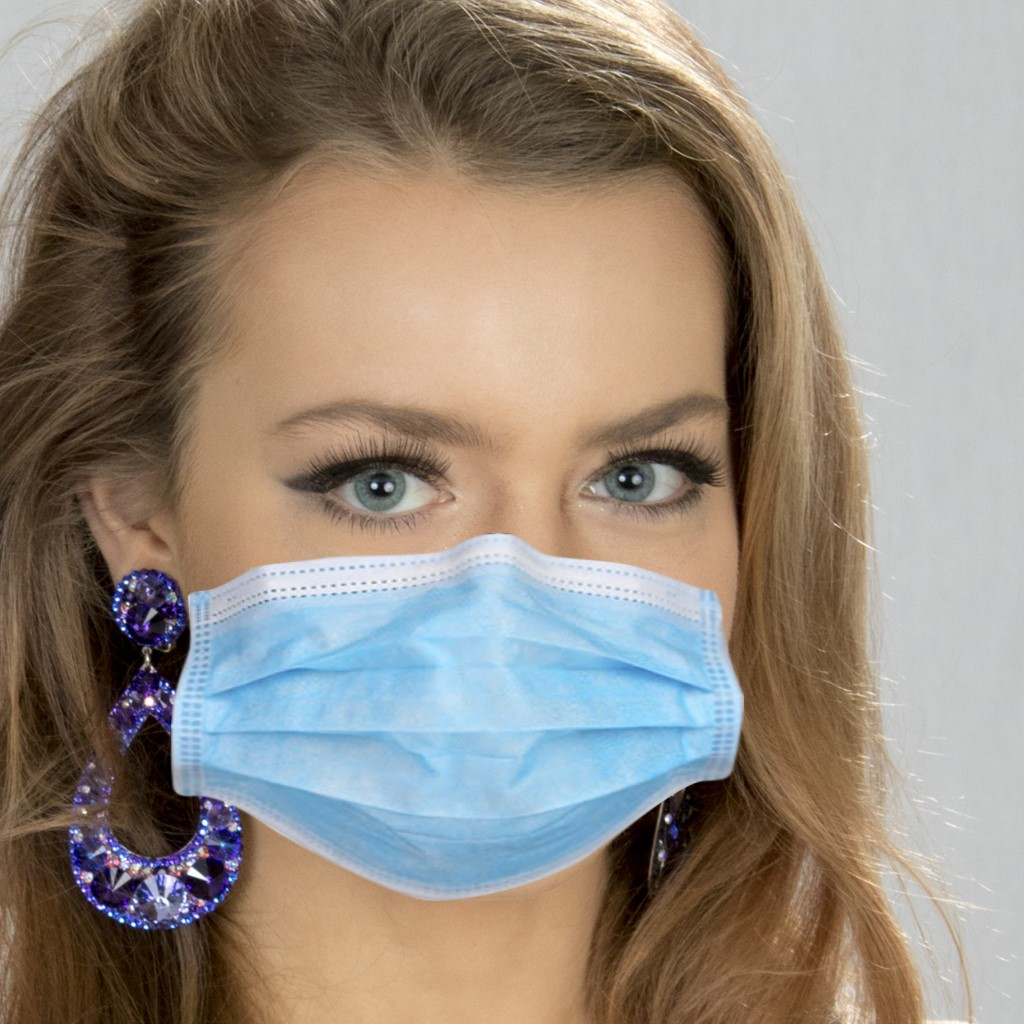con_mascara: (150, 165, 762, 909)
